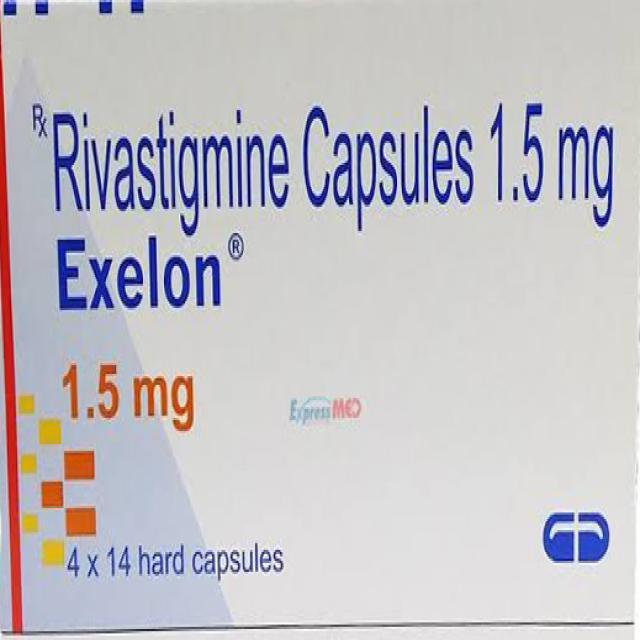drug-name: (55, 234, 224, 312)
